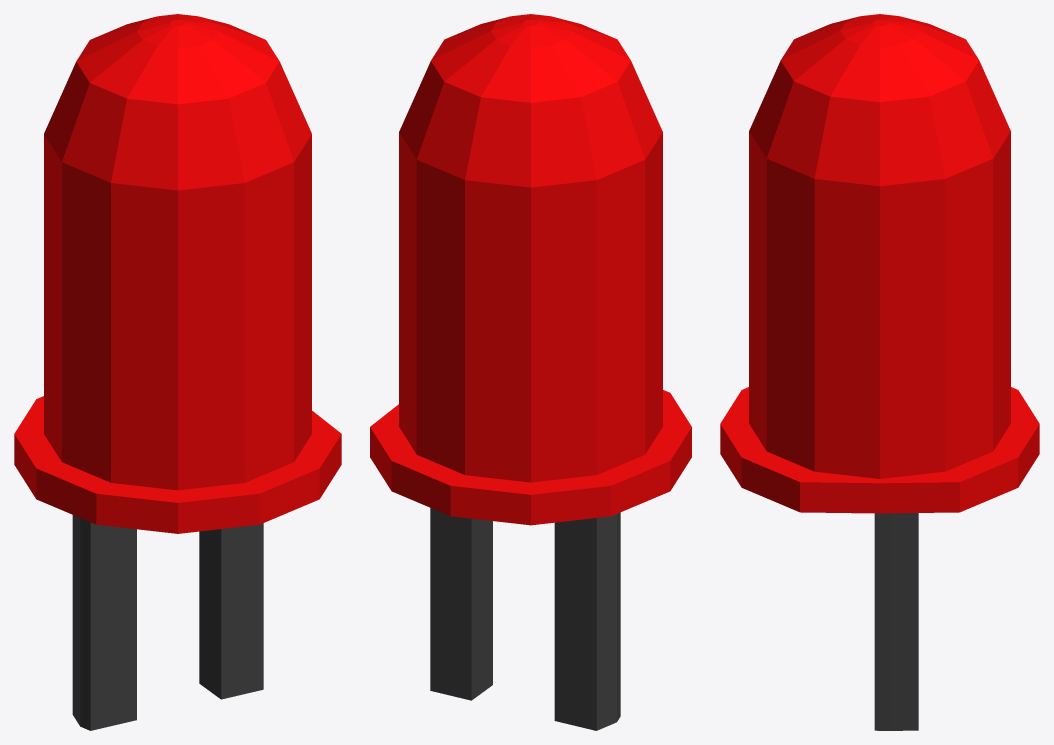
File: RedLED.fbx
The picture shows the model from 3 angles, left to right: view 1: azimuth 30°, elevation 25°; view 2: azimuth 150°, elevation 25°; view 3: azimuth 270°, elevation 25°; orthographic projection. The views are drawn at different scales.
Parts seen in each view (by area): view 1: Cylinder; view 2: Cylinder; view 3: Cylinder.
Boxes of the visible parts, left/top/right/bottom form: Cylinder: left=14, top=14, right=341, bottom=730; Cylinder: left=370, top=14, right=691, bottom=730; Cylinder: left=720, top=14, right=1039, bottom=730.
Bounding box in the file's own units: 230 × 563 × 244.
